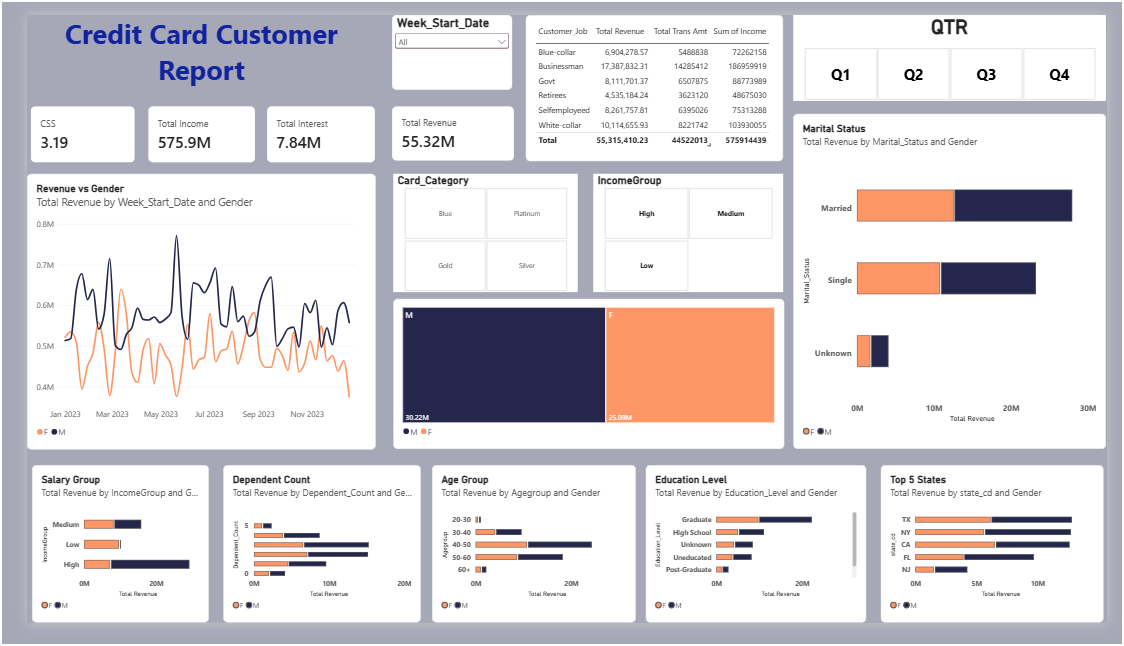

What the dashboard file says about the page in this screenshot:
{"tool":"powerbi","page":{"name":"Page 1","canvas":[1920,1080],"ordinal":0},"visuals":[{"type":"cardVisual","fields":{"Data":["Customer.Total Income"]},"box":[215,162.5,190,100],"z":0},{"type":"slicer","title":"QTR","fields":{"Values":["Credit_card.Qtr"]},"box":[1362,0,555.8,152.8],"z":1000},{"type":"lineChart","title":"Revenue vs Gender","fields":{"Category":["Credit_card.Week_Start_Date"],"Series":["Customer.Gender"],"Y":["Credit_card.Total Revenue"]},"box":[0,282.5,620,490],"z":3000},{"type":"cardVisual","fields":{"Data":["Customer.CSS"]},"box":[7.5,162.5,185,100],"z":4000},{"type":"slicer","fields":{"Values":["Credit_card.Week_Start_Date"]},"box":[649.7,0,213.5,132.5],"z":5000},{"type":"slicer","fields":{"Values":["Credit_card.Card_Category"]},"box":[650,282.5,328,210],"z":7000},{"type":"slicer","fields":{"Values":["Customer.IncomeGroup"]},"box":[1007.5,282.5,337.5,210],"z":8000},{"type":"treemap","fields":{"Group":["Customer.Gender"],"Values":["Credit_card.Total Revenue"]},"box":[650,505,695,267.5],"z":9000},{"type":"tableEx","fields":{"Values":["Customer.Customer_Job","Credit_card.Total Revenue","select","Credit_card.Total Trans Amt","Customer.Income"]},"box":[887.5,0,457.5,260],"z":10000},{"type":"barChart","title":"Age Group","fields":{"Category":["Customer.Agegroup"],"Series":["Customer.Gender"],"Y":["Credit_card.Total Revenue"]},"box":[719.6,800.6,362.6,279.8],"z":11000},{"type":"barChart","title":"Top 5 States","fields":{"Category":["Customer.state_cd"],"Series":["Customer.Gender"],"Y":["Credit_card.Total Revenue"]},"box":[1518.4,800.6,395.7,279.8],"z":12000},{"type":"barChart","title":"Salary Group","fields":{"Category":["Customer.IncomeGroup"],"Series":["Customer.Gender"],"Y":["Credit_card.Total Revenue"]},"box":[9.2,800.6,314.7,279.8],"z":13000},{"type":"barChart","title":"Dependent Count","fields":{"Category":["Customer.Dependent_Count"],"Series":["Customer.Gender"],"Y":["Credit_card.Total Revenue"]},"box":[347.9,800.6,351.5,279.8],"z":14000},{"type":"barChart","title":"Marital Status","fields":{"Category":["Customer.Marital_Status"],"Series":["Customer.Gender"],"Y":["Credit_card.Total Revenue"]},"box":[1362,174.8,555.8,596.3],"z":15000},{"type":"barChart","title":"Education Level","fields":{"Category":["Customer.Education_Level"],"Series":["Customer.Gender"],"Y":["Credit_card.Total Revenue"]},"box":[1100.6,800.6,392,279.8],"z":16000},{"type":"textbox","box":[0,0,620.2,152.8],"z":17000},{"type":"cardVisual","fields":{"Data":["Credit_card.Total Revenue"]},"box":[649.7,162,217.2,97.5],"z":18000},{"type":"cardVisual","fields":{"Data":["Credit_card.Total Interest"]},"box":[427.5,162.5,192.5,100],"z":19000}]}

Visuals, with their boxes in screenshot pixels (x1, y1, x2, y2), scaled from the page's 1920x1080 canvas onto the 1124x646 screenshot:
cardVisual - Customer.Total Income: rect(126, 97, 237, 157)
"QTR" slicer: rect(797, 0, 1123, 91)
"Revenue vs Gender" lineChart: rect(0, 169, 363, 462)
cardVisual - Customer.CSS: rect(4, 97, 113, 157)
slicer - Credit_card.Week_Start_Date: rect(380, 0, 505, 79)
slicer - Credit_card.Card_Category: rect(381, 169, 573, 295)
slicer - Customer.IncomeGroup: rect(590, 169, 787, 295)
treemap - Customer.Gender x Credit_card.Total Revenue: rect(381, 302, 787, 462)
tableEx - Customer.Customer_Job x Credit_card.Total Revenue: rect(520, 0, 787, 156)
"Age Group" barChart: rect(421, 479, 634, 645)
"Top 5 States" barChart: rect(889, 479, 1121, 645)
"Salary Group" barChart: rect(5, 479, 190, 645)
"Dependent Count" barChart: rect(204, 479, 409, 645)
"Marital Status" barChart: rect(797, 105, 1123, 461)
"Education Level" barChart: rect(644, 479, 874, 645)
textbox: rect(0, 0, 363, 91)
cardVisual - Credit_card.Total Revenue: rect(380, 97, 507, 155)
cardVisual - Credit_card.Total Interest: rect(250, 97, 363, 157)
